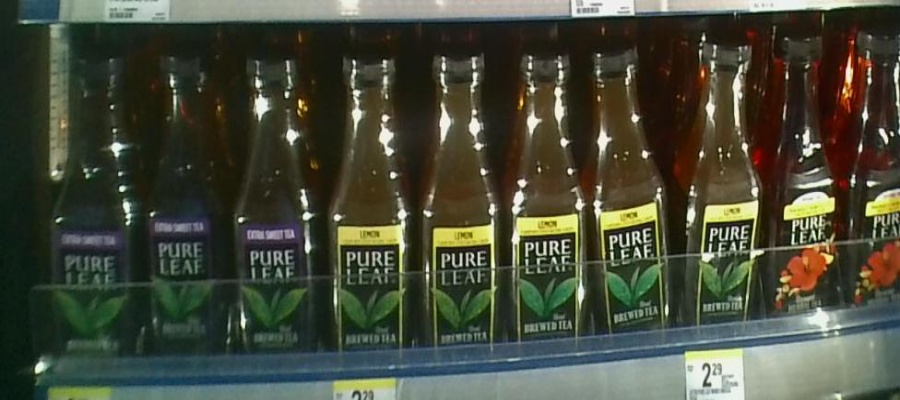bottle: (322, 47, 416, 366), (51, 47, 137, 365), (230, 61, 317, 366), (419, 32, 498, 366), (502, 47, 587, 353), (591, 47, 676, 352), (679, 37, 763, 344), (145, 54, 226, 371), (768, 33, 843, 342), (847, 26, 900, 323)
